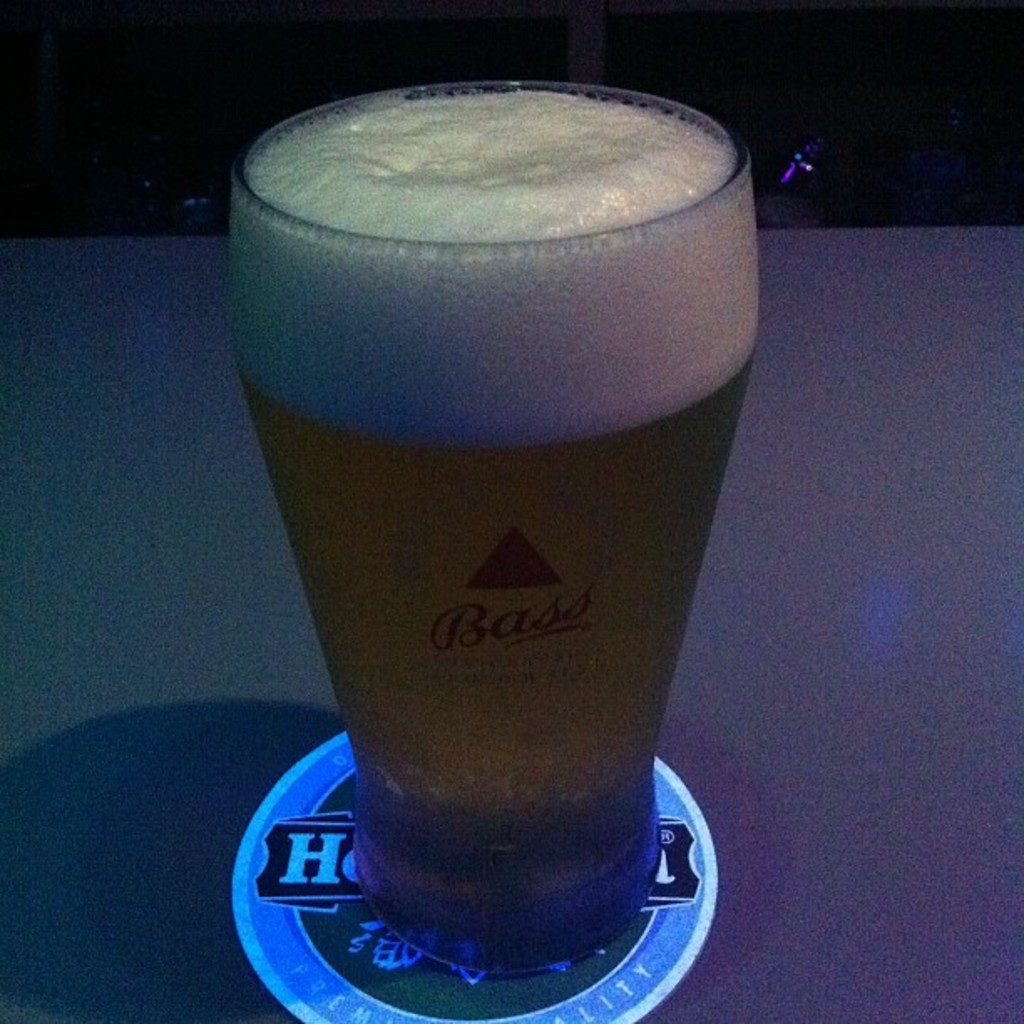Beer: (229, 83, 759, 973)
